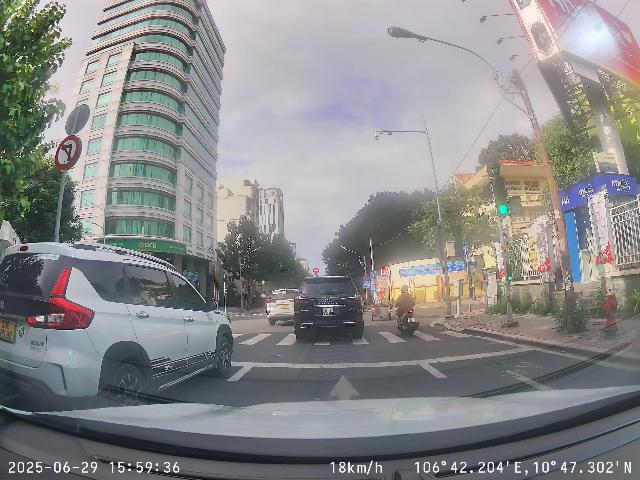123a-cam-re-trai: (55, 135, 79, 169)
